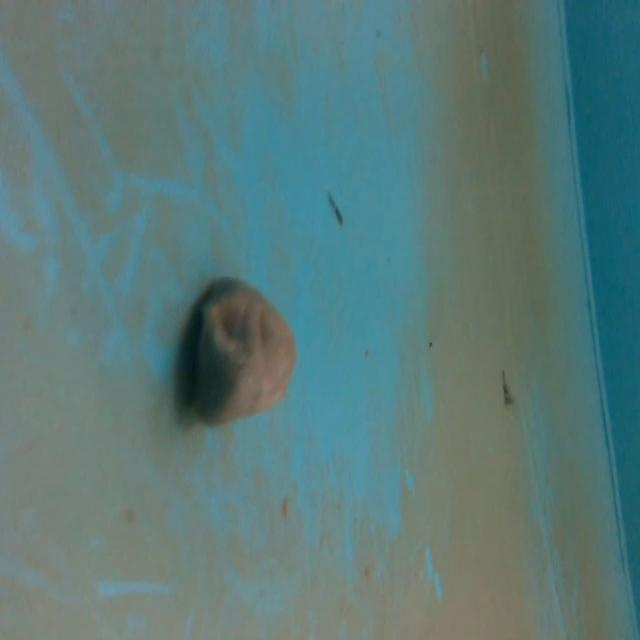rock: (186, 271, 306, 433)
